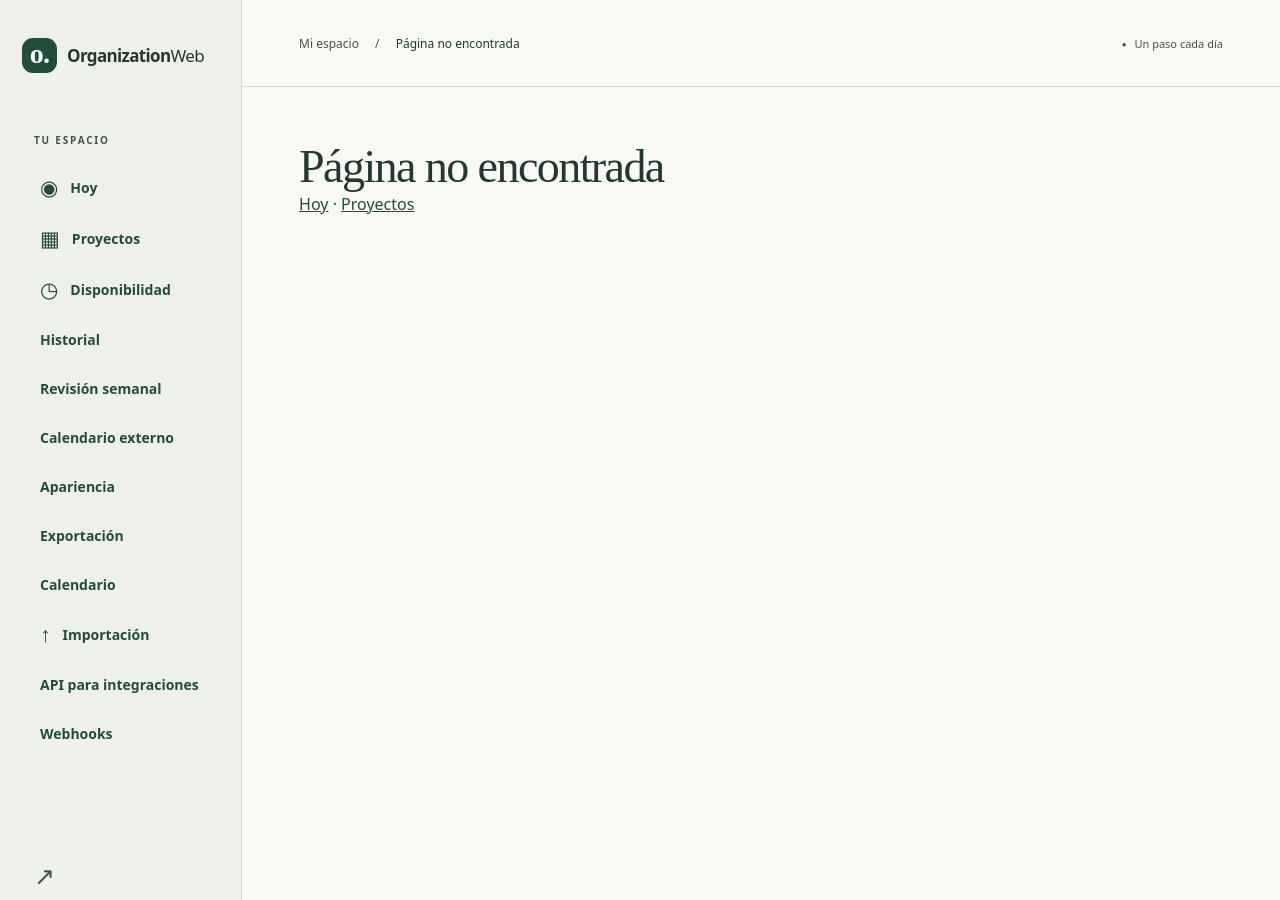
Test: @s28 opens history from the existing navigation and presents confirmed emptiness
Click the link "Historial" at point(70, 340), box x1=40 y1=330 x2=100 y2=349
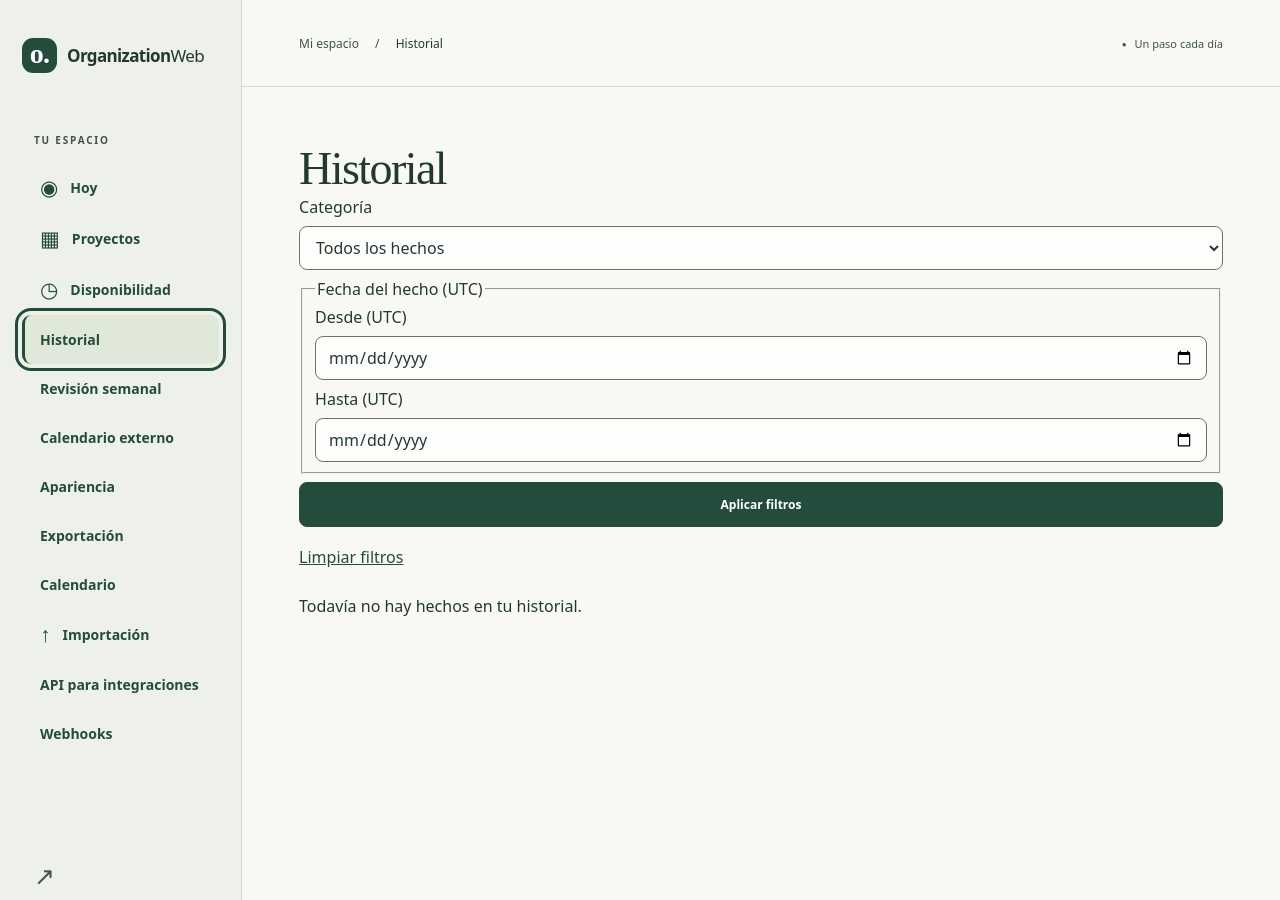
Expected: the heading "Historial" is shown, x1=299 y1=143 x2=446 y2=194
Expected: the text "Todavía no hay hechos en tu historial." is shown, x1=299 y1=595 x2=582 y2=617
